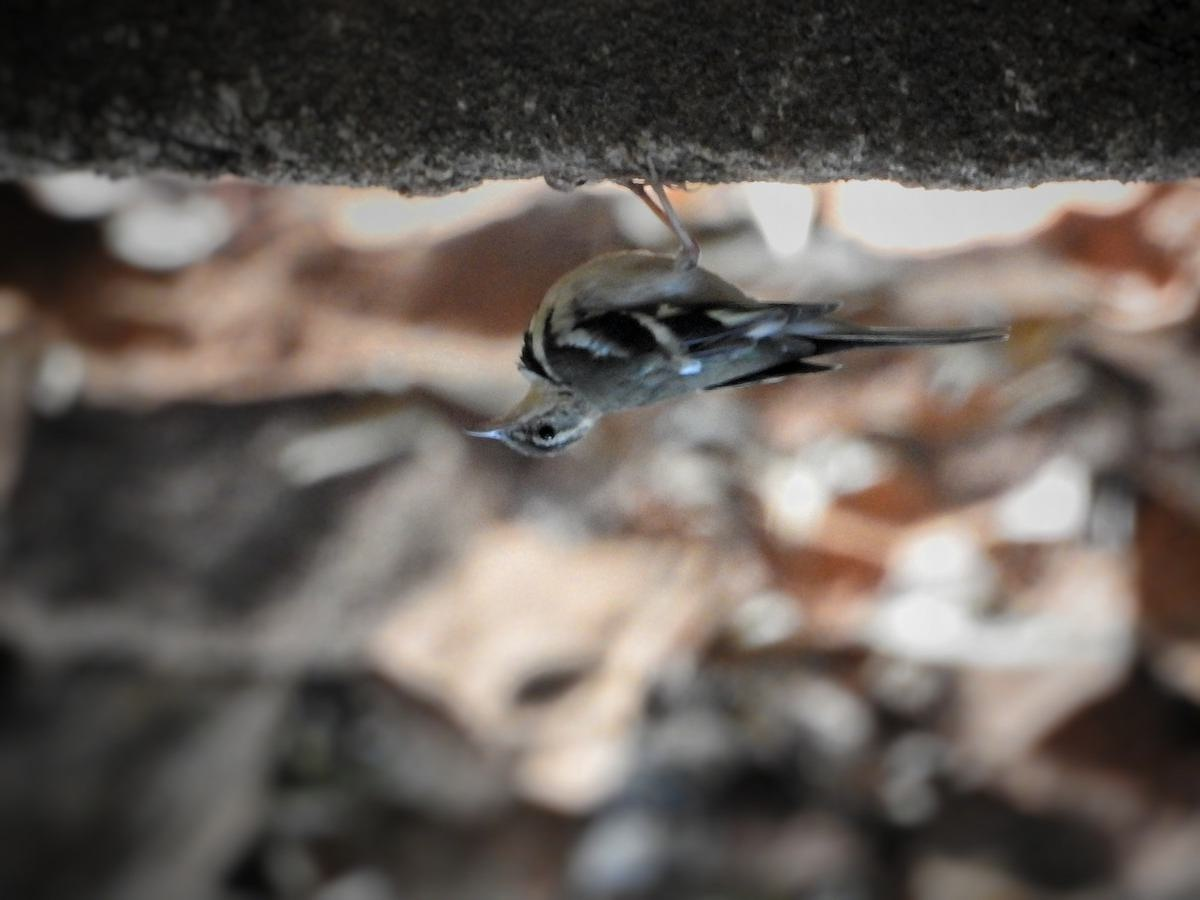wagtail: (439, 181, 978, 475)
